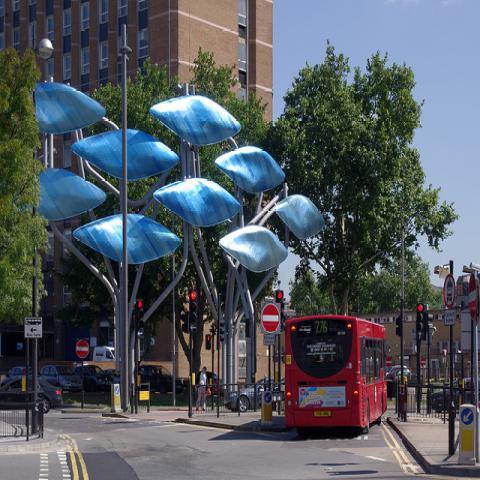bus: (281, 308, 395, 437)
car: (430, 377, 479, 415), (224, 377, 274, 411), (28, 377, 64, 415), (40, 364, 83, 392), (138, 364, 172, 394), (84, 365, 116, 393), (1, 367, 43, 388), (0, 378, 26, 402), (196, 371, 221, 395), (102, 368, 120, 383), (393, 370, 417, 380), (386, 365, 401, 379)
